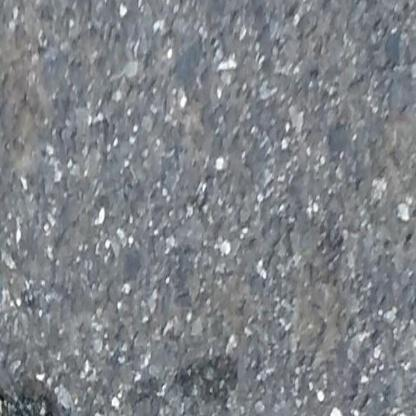Cracks: (0, 387, 103, 416)
